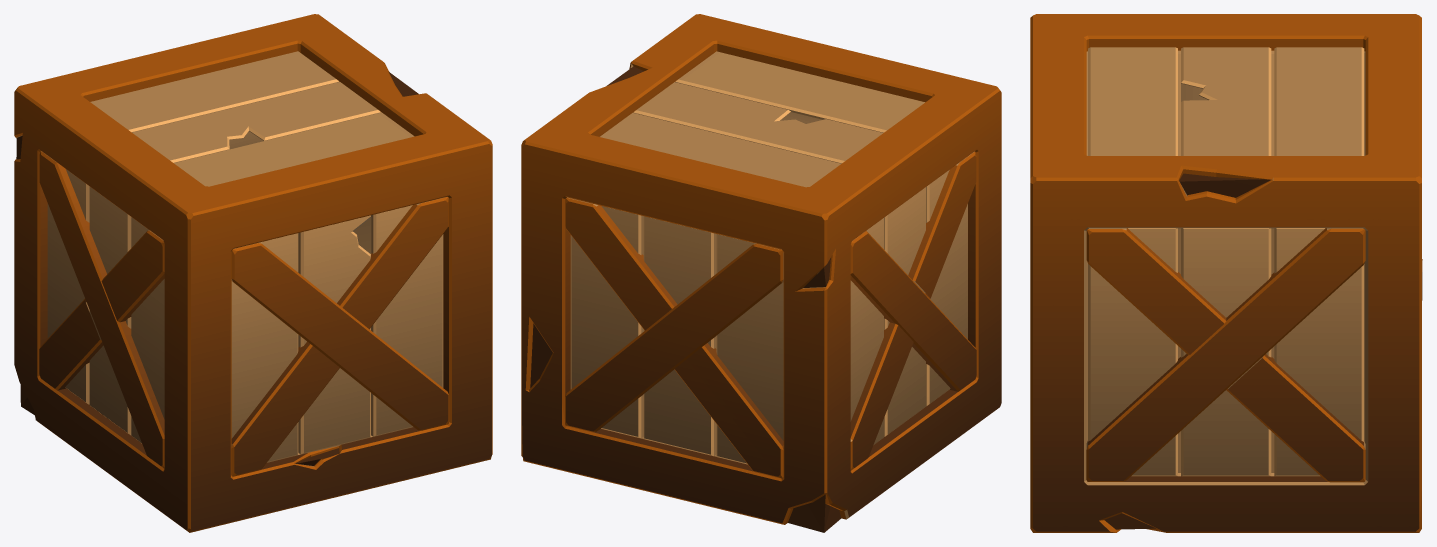
The picture shows the model from 3 angles, left to right: view 1: azimuth 30°, elevation 25°; view 2: azimuth 150°, elevation 25°; view 3: azimuth 270°, elevation 25°; orthographic projection. The views are drawn at different scales.
Parts seen in each view (by area): view 1: Wooden_Box; view 2: Wooden_Box; view 3: Wooden_Box.
Boxes of the visible parts, bbox=[...] form: Wooden_Box: bbox=[14, 14, 492, 532]; Wooden_Box: bbox=[521, 14, 1001, 532]; Wooden_Box: bbox=[1030, 14, 1422, 532].
Bounding box in the file's own units: 100 × 100 × 100.
